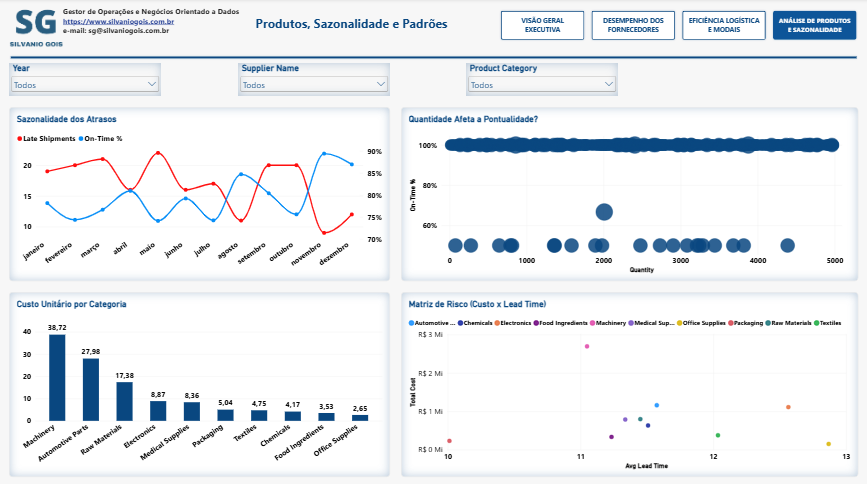

The page's visual inventory and layout, read from the dashboard file:
{"tool":"powerbi","page":{"name":"ANÁLISE DE PRODUTOS E SAZONALIDADE","canvas":[1920,1080],"ordinal":3},"visuals":[{"type":"image","box":[24,0,120,120],"z":0},{"type":"textbox","box":[144,0,408,120],"z":1000},{"type":"textbox","box":[552,0,456,120],"z":2000},{"type":"shape","box":[24,120,1872,24],"z":3000},{"type":"pageNavigator","box":[1104,24,792,72],"z":4000},{"type":"slicer","fields":{"Values":["Calendar.Year"]},"box":[24,144,336,72],"z":5000},{"type":"slicer","fields":{"Values":["SupplyChain.Product Category"]},"box":[1032,144,336,72],"z":6000},{"type":"slicer","fields":{"Values":["SupplyChain.Supplier Name"]},"box":[528,144,336,72],"z":7000},{"type":"lineChart","title":"Sazonalidade dos Atrasos","fields":{"Category":["Calendar.Date.Variation.Hierarquia de datas.Mês"],"Y":["Medidas.Late Shipments"],"Y2":["Medidas.On-Time %"]},"box":[24,240,840,384],"z":8000},{"type":"scatterChart","title":"Quantidade Afeta a Pontualidade?","fields":{"Size":["CountNonNull(SupplyChain.Shipment ID)"],"X":["SupplyChain.Quantity"],"Y":["Medidas.On-Time %"]},"box":[888,240,1008,384],"z":9000},{"type":"columnChart","title":"Custo Unitário por Categoria","fields":{"Category":["SupplyChain.Product Category"],"Y":["Medidas.Avg Cost per Unit"]},"box":[24,648,840,408],"z":10000},{"type":"scatterChart","title":"Matriz de Risco (Custo x Lead Time)","fields":{"Series":["SupplyChain.Product Category"],"X":["Medidas.Avg Lead Time"],"Y":["Medidas.Total Cost"]},"box":[888,648,1008,408],"z":11000}]}

Visuals, with their boxes in screenshot pixels (x1, y1, x2, y2), scaled from the page's 1920x1080 canvas onto the 867x484 screenshot:
image: <box>11,0,65,54</box>
textbox: <box>65,0,249,54</box>
textbox: <box>249,0,455,54</box>
shape: <box>11,54,856,65</box>
pageNavigator: <box>499,11,856,43</box>
slicer - Calendar.Year: <box>11,65,163,97</box>
slicer - SupplyChain.Product Category: <box>466,65,618,97</box>
slicer - SupplyChain.Supplier Name: <box>238,65,390,97</box>
"Sazonalidade dos Atrasos" lineChart: <box>11,108,390,280</box>
"Quantidade Afeta a Pontualidade?" scatterChart: <box>401,108,856,280</box>
"Custo Unitário por Categoria" columnChart: <box>11,290,390,473</box>
"Matriz de Risco (Custo x Lead Time)" scatterChart: <box>401,290,856,473</box>
